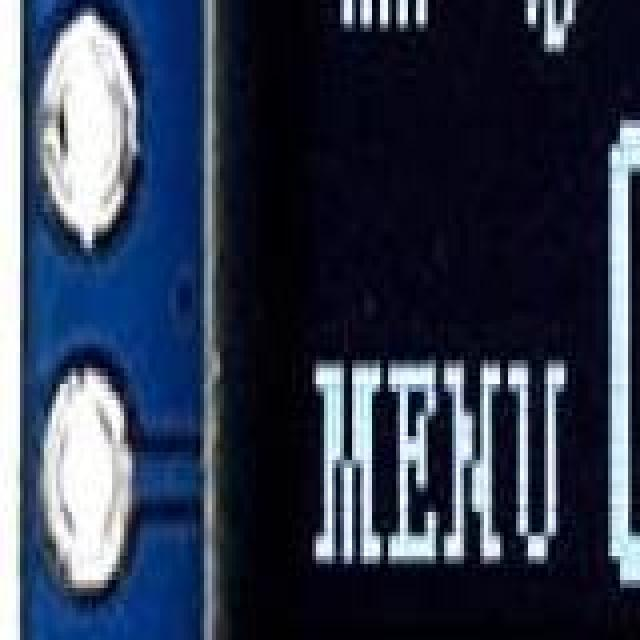display: (204, 0, 640, 640)
